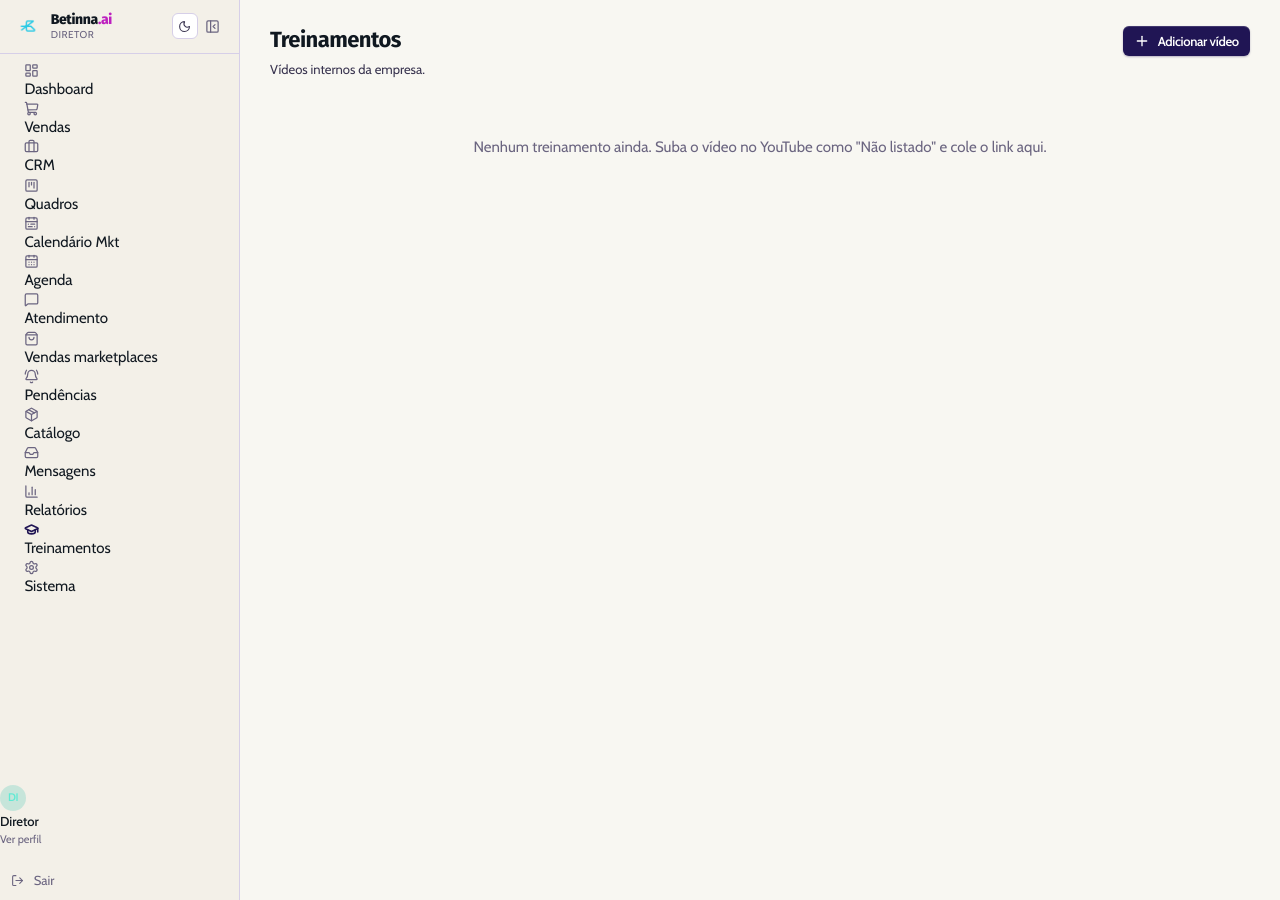
TreinamentosPage › mostra a recusa do backend quando o link não é do YouTube
This screenshot has width=1280, height=900.
Click the button with test id "treinamento-novo".
click(1186, 41)  # box [1123,26,1250,56]
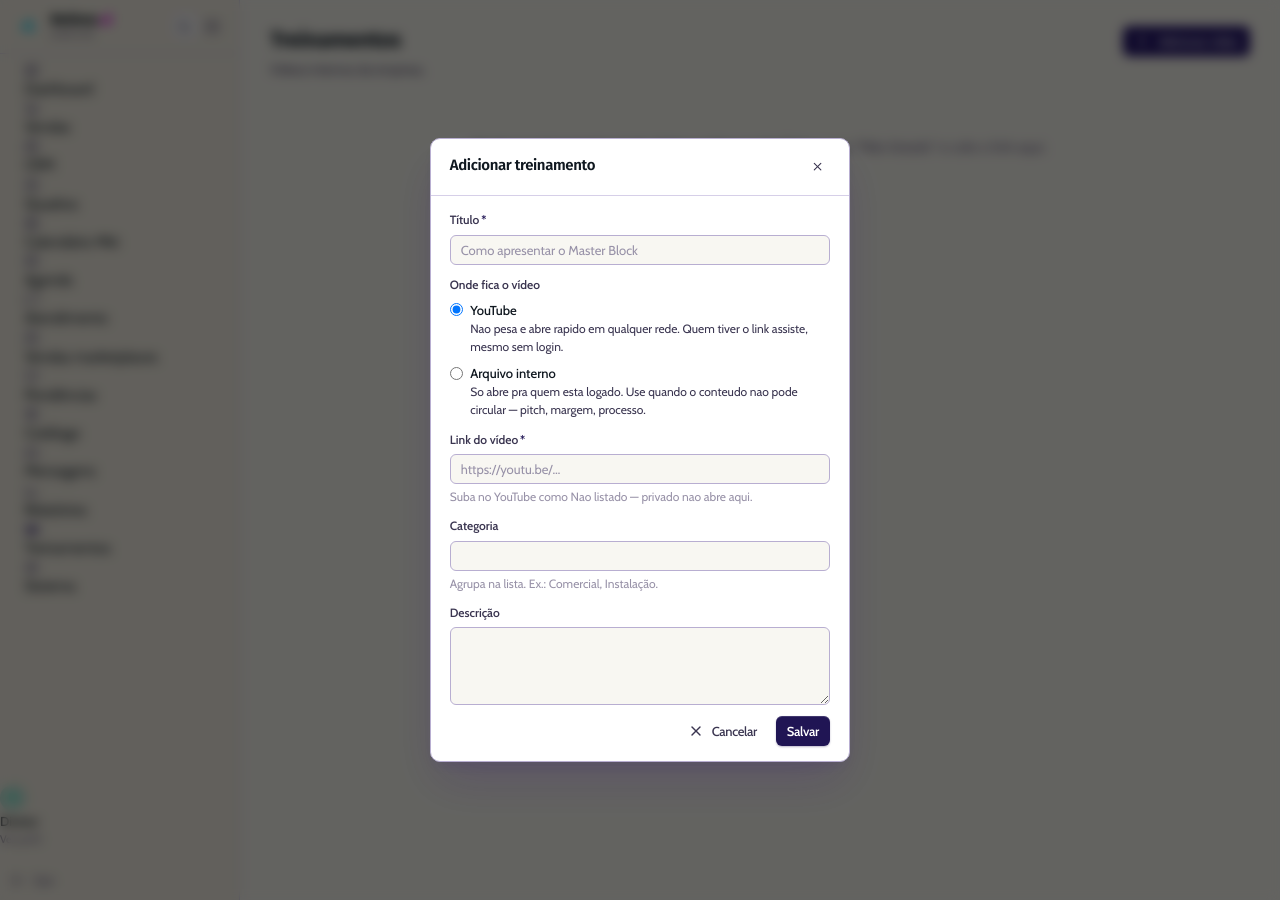
Type "Aula" into the field with test id "treinamento-titulo".
click(640, 250); type("Aula")  # box [450,235,830,265]
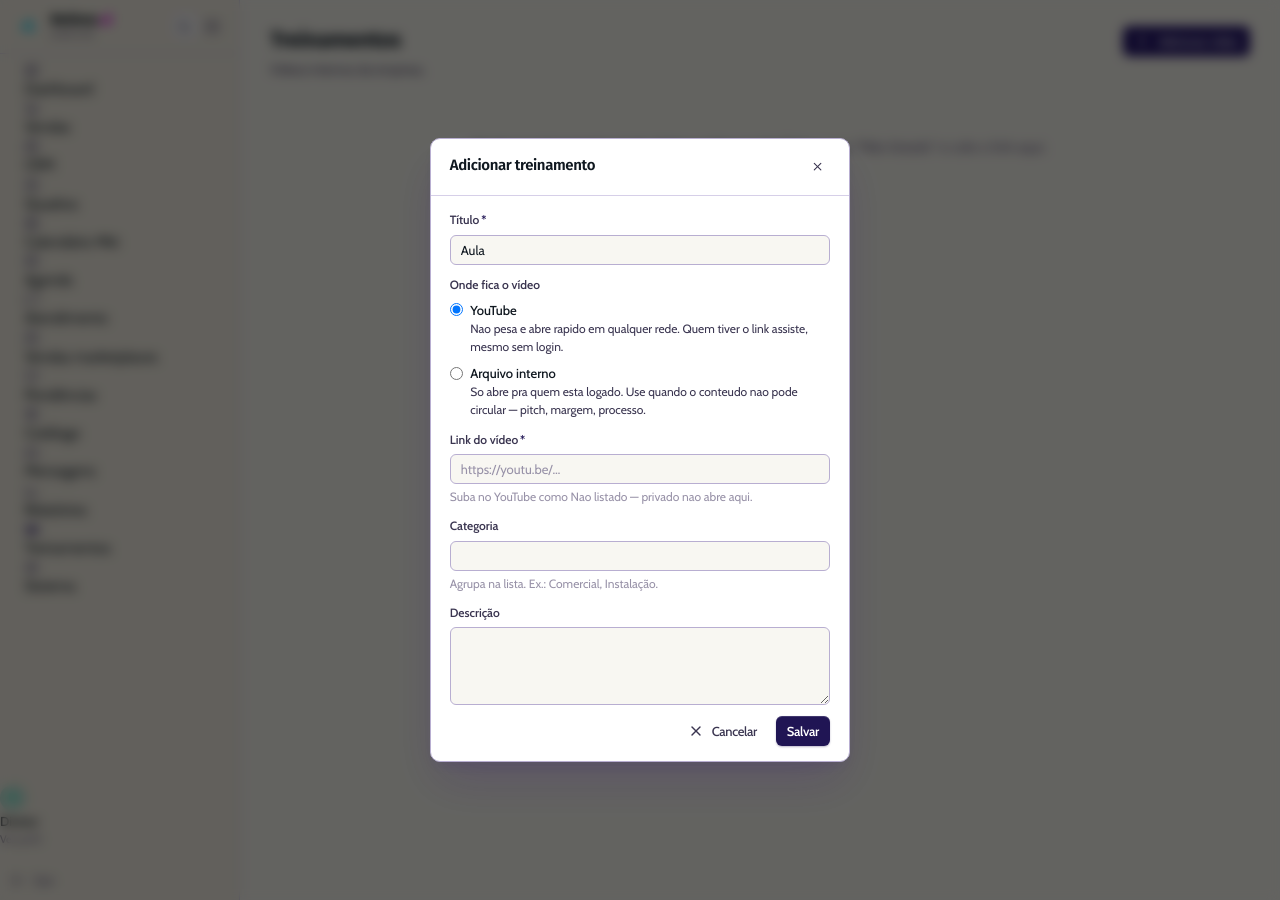
Type "https://vimeo.com/123" into the field with test id "treinamento-video".
click(640, 469); type("https://vimeo.com/123")  # box [450,454,830,484]
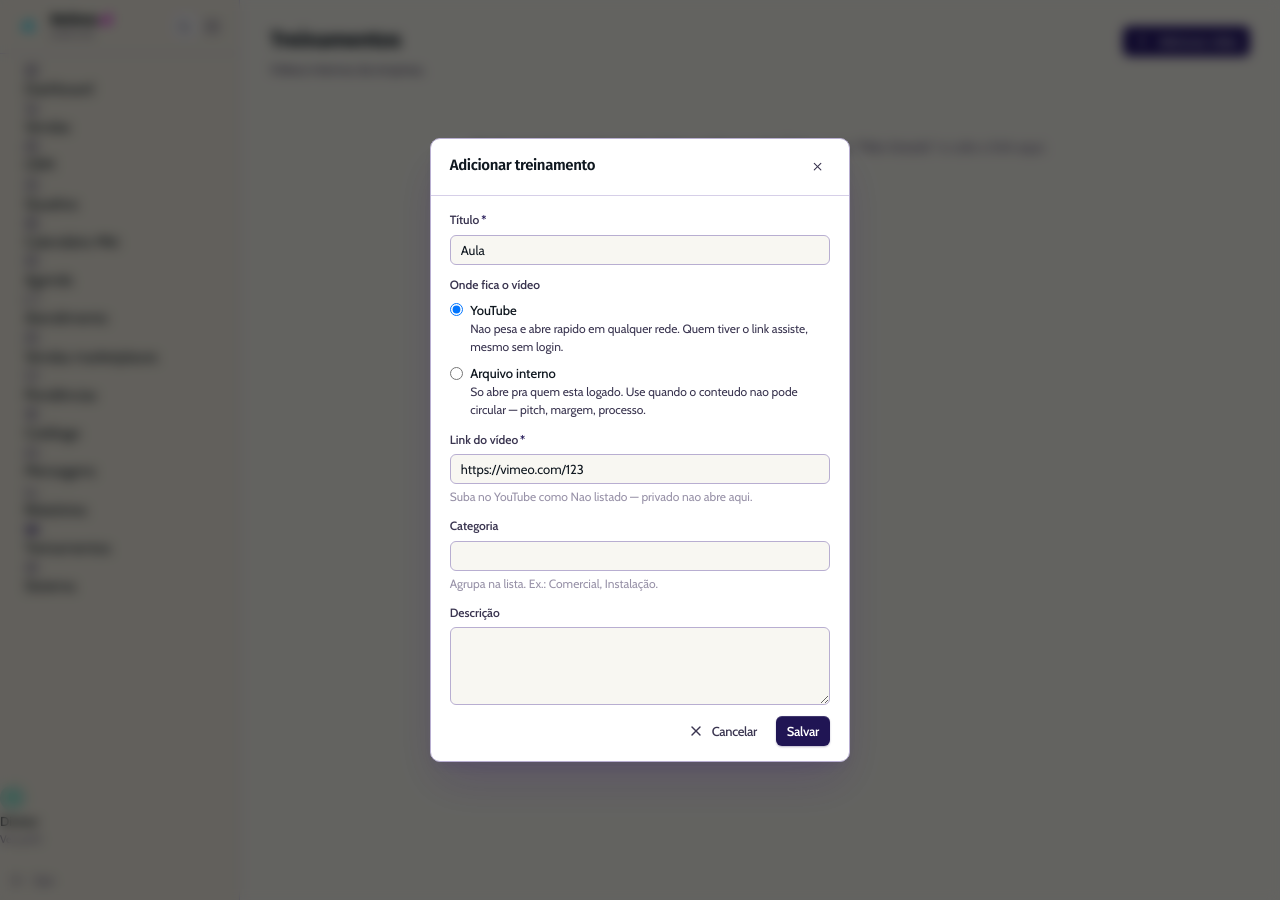
Click the button with test id "treinamento-salvar".
click(803, 731)  # box [776,716,830,746]
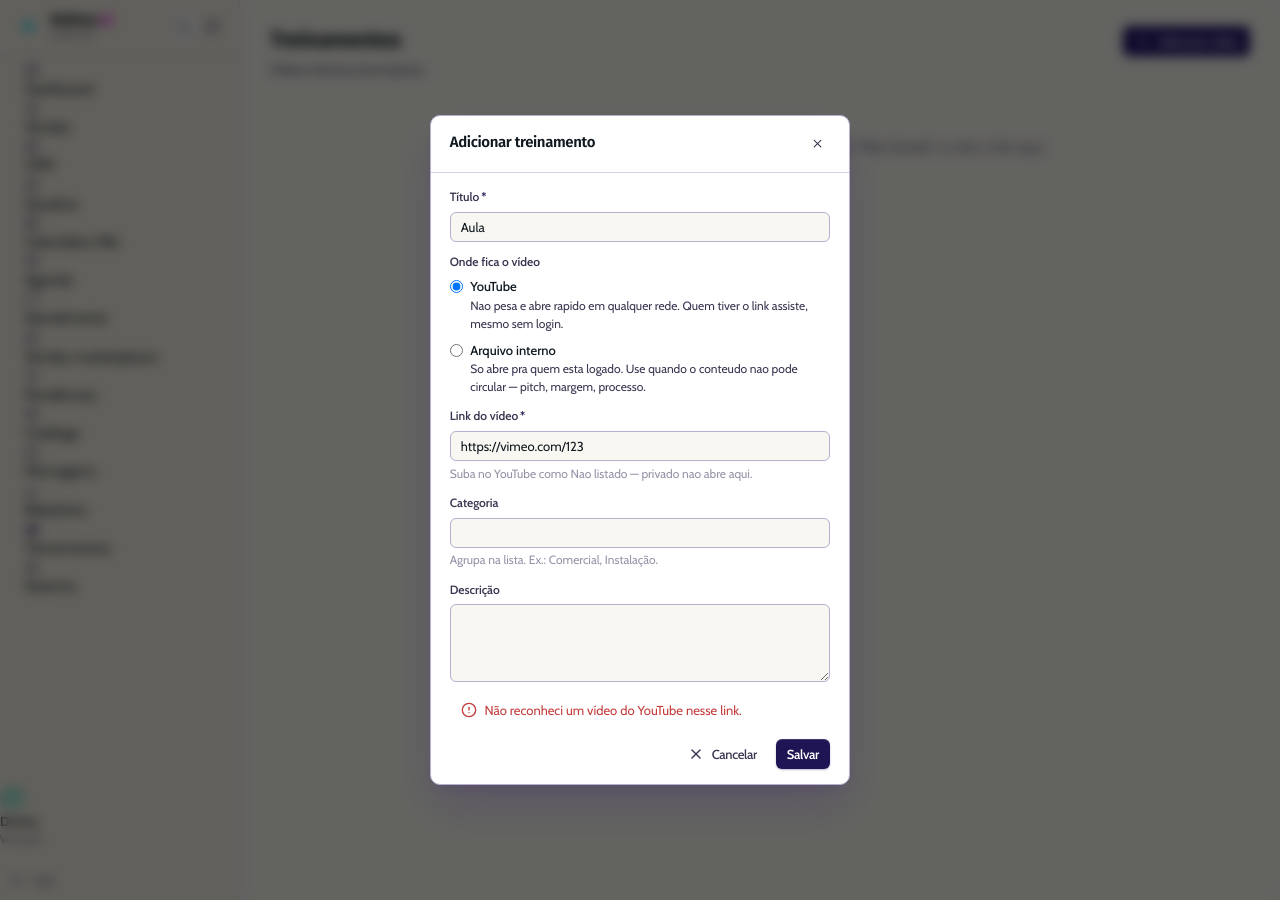
Now the element with test id "treinamento-erro" is shown, box [461,702,742,718]
Now the element with test id "treinamento-erro" shows "YouTube", box [484,702,742,718]
